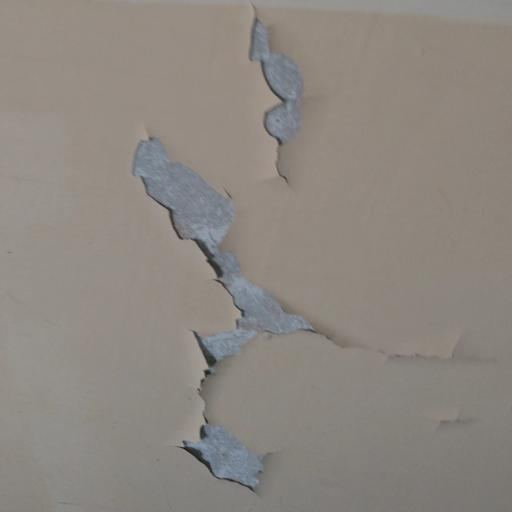peeling: (112, 120, 373, 499), (242, 0, 328, 190), (387, 321, 489, 375), (431, 399, 486, 440)
